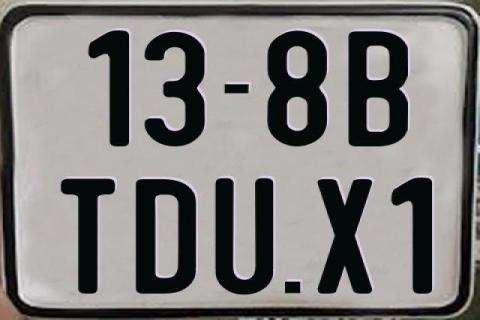0: (144, 31, 205, 149), (265, 28, 327, 144), (87, 31, 131, 147), (390, 177, 433, 293)
B: (346, 31, 408, 146)
D: (136, 178, 199, 294)
T: (59, 177, 112, 293)
U: (212, 179, 270, 295)
X: (316, 177, 374, 293)
